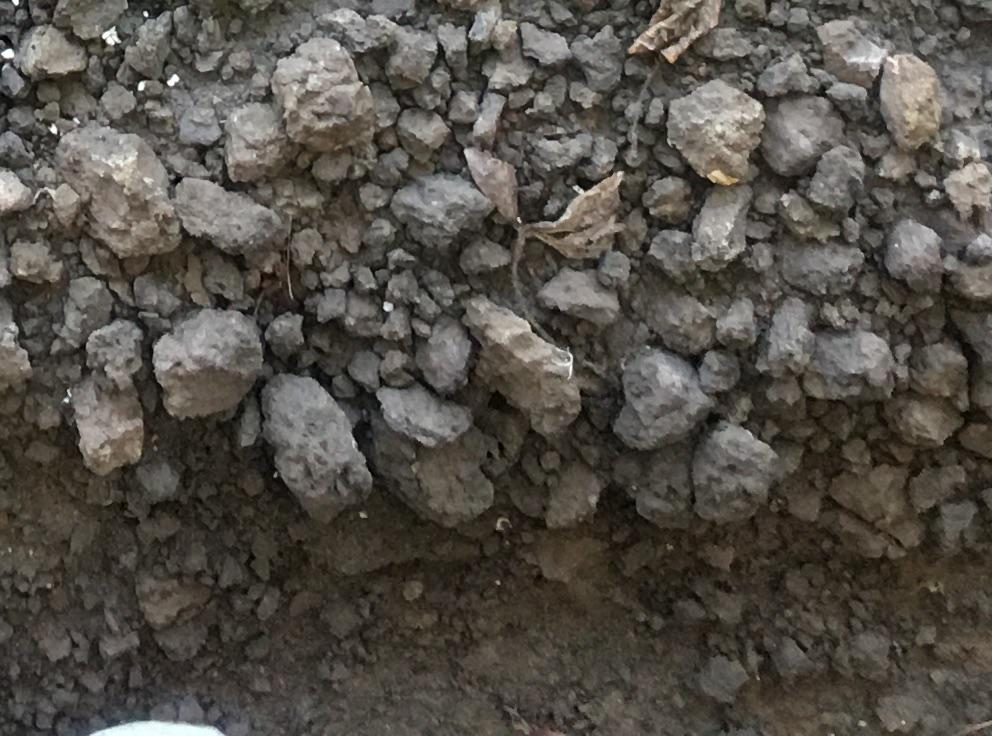block: (465, 292, 579, 442), (375, 387, 493, 529), (53, 127, 177, 256), (257, 379, 367, 520), (148, 312, 265, 419), (270, 39, 374, 152), (613, 347, 710, 452), (664, 78, 752, 186), (694, 422, 780, 530), (67, 376, 149, 473), (807, 319, 898, 406), (879, 50, 942, 149)
